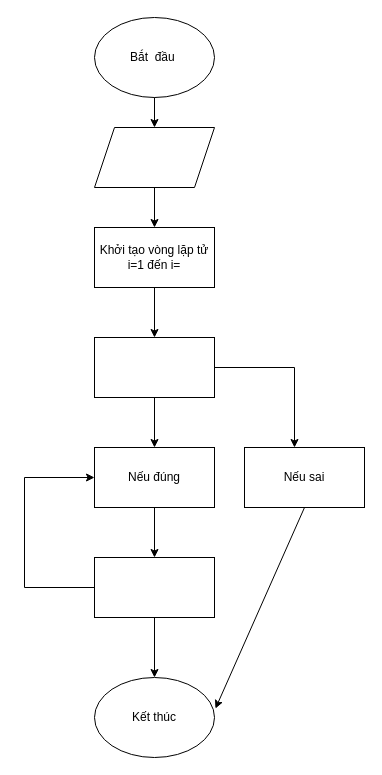
Some shapes in this 382 by 775 pixel diagram are drawn without their labels. The shapes that lost their labels are listed below. From the top down, each one's centre as x and y in pixels, then its label:
At (x=154, y=157): "Nhập N".
At (x=154, y=367): "Kiểm tra n%i == 0".
At (x=154, y=587): "In ước của N (Tiếp tục tăng i để kiểm tra)".
